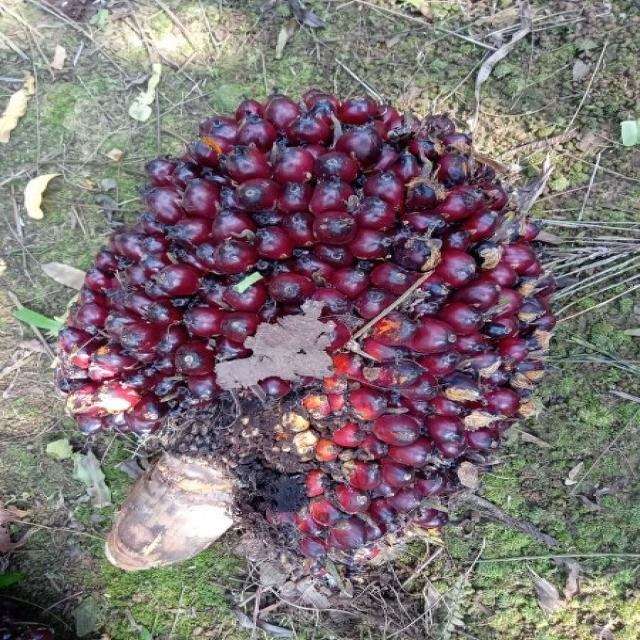fraksi 1: (33, 42, 579, 612)
